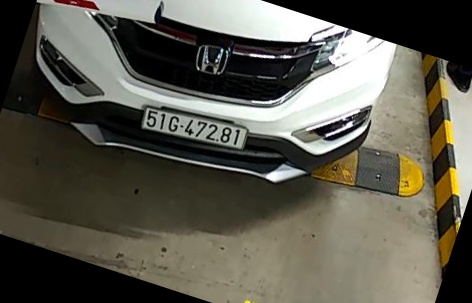plate: (139, 103, 248, 162)
